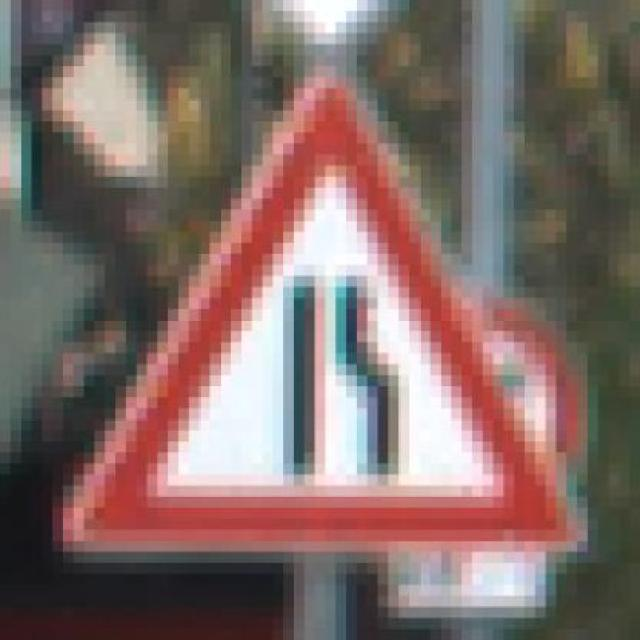-Road narrows on right: (44, 39, 601, 570)
